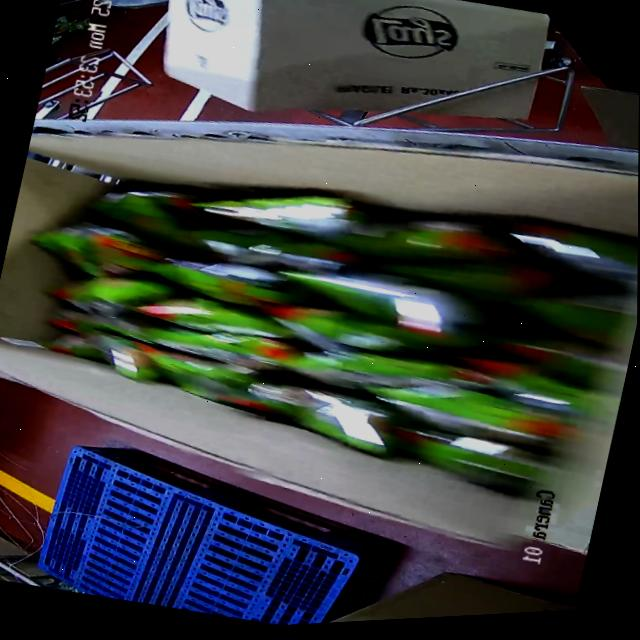YOGURT_HERB: (20, 135, 581, 520)
